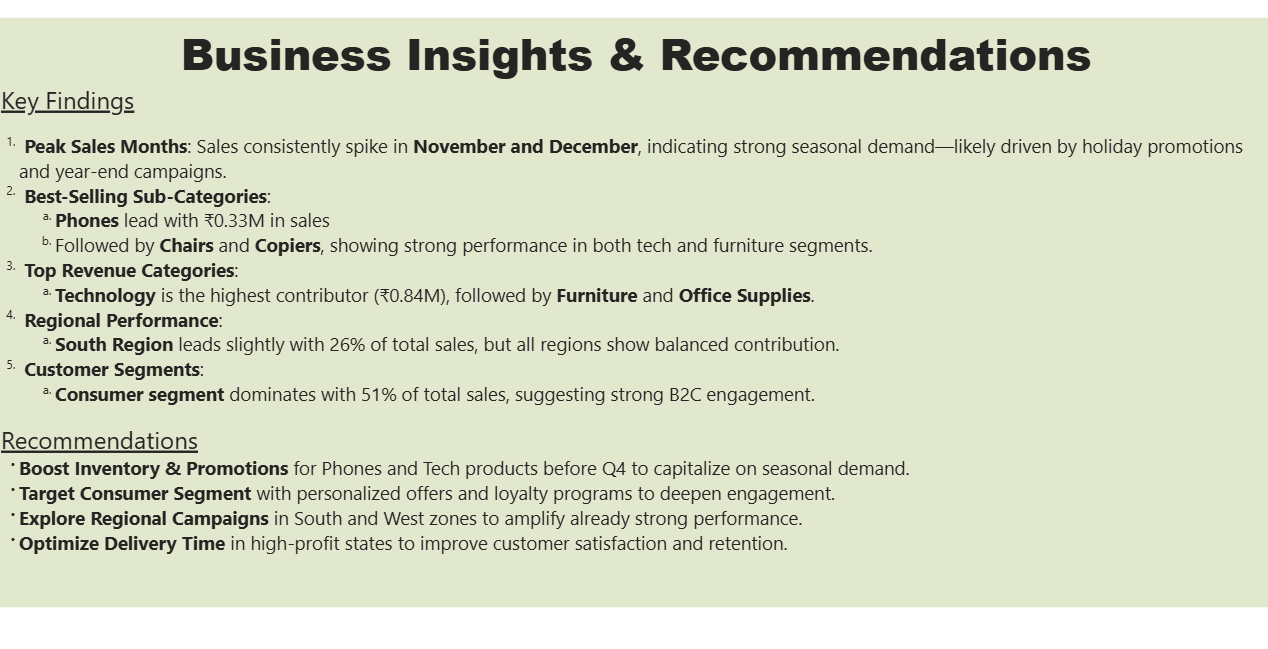

Layout of this report page (visuals, bound fields, positions):
{"tool":"powerbi","page":{"name":"Business Insights & Recommendations ","canvas":[1280,720],"ordinal":1},"visuals":[{"type":"textbox","box":[0,53.8,1280.3,589.4],"z":0}]}

Visuals, with their boxes on the page's 1280x720 design canvas (x1, y1, x2, y2). These are canvas units, not pixel positions in the 1268x649 screenshot, which may show the page scaled, cropped or inside an application window:
textbox: (left=0, top=54, right=1280, bottom=643)
